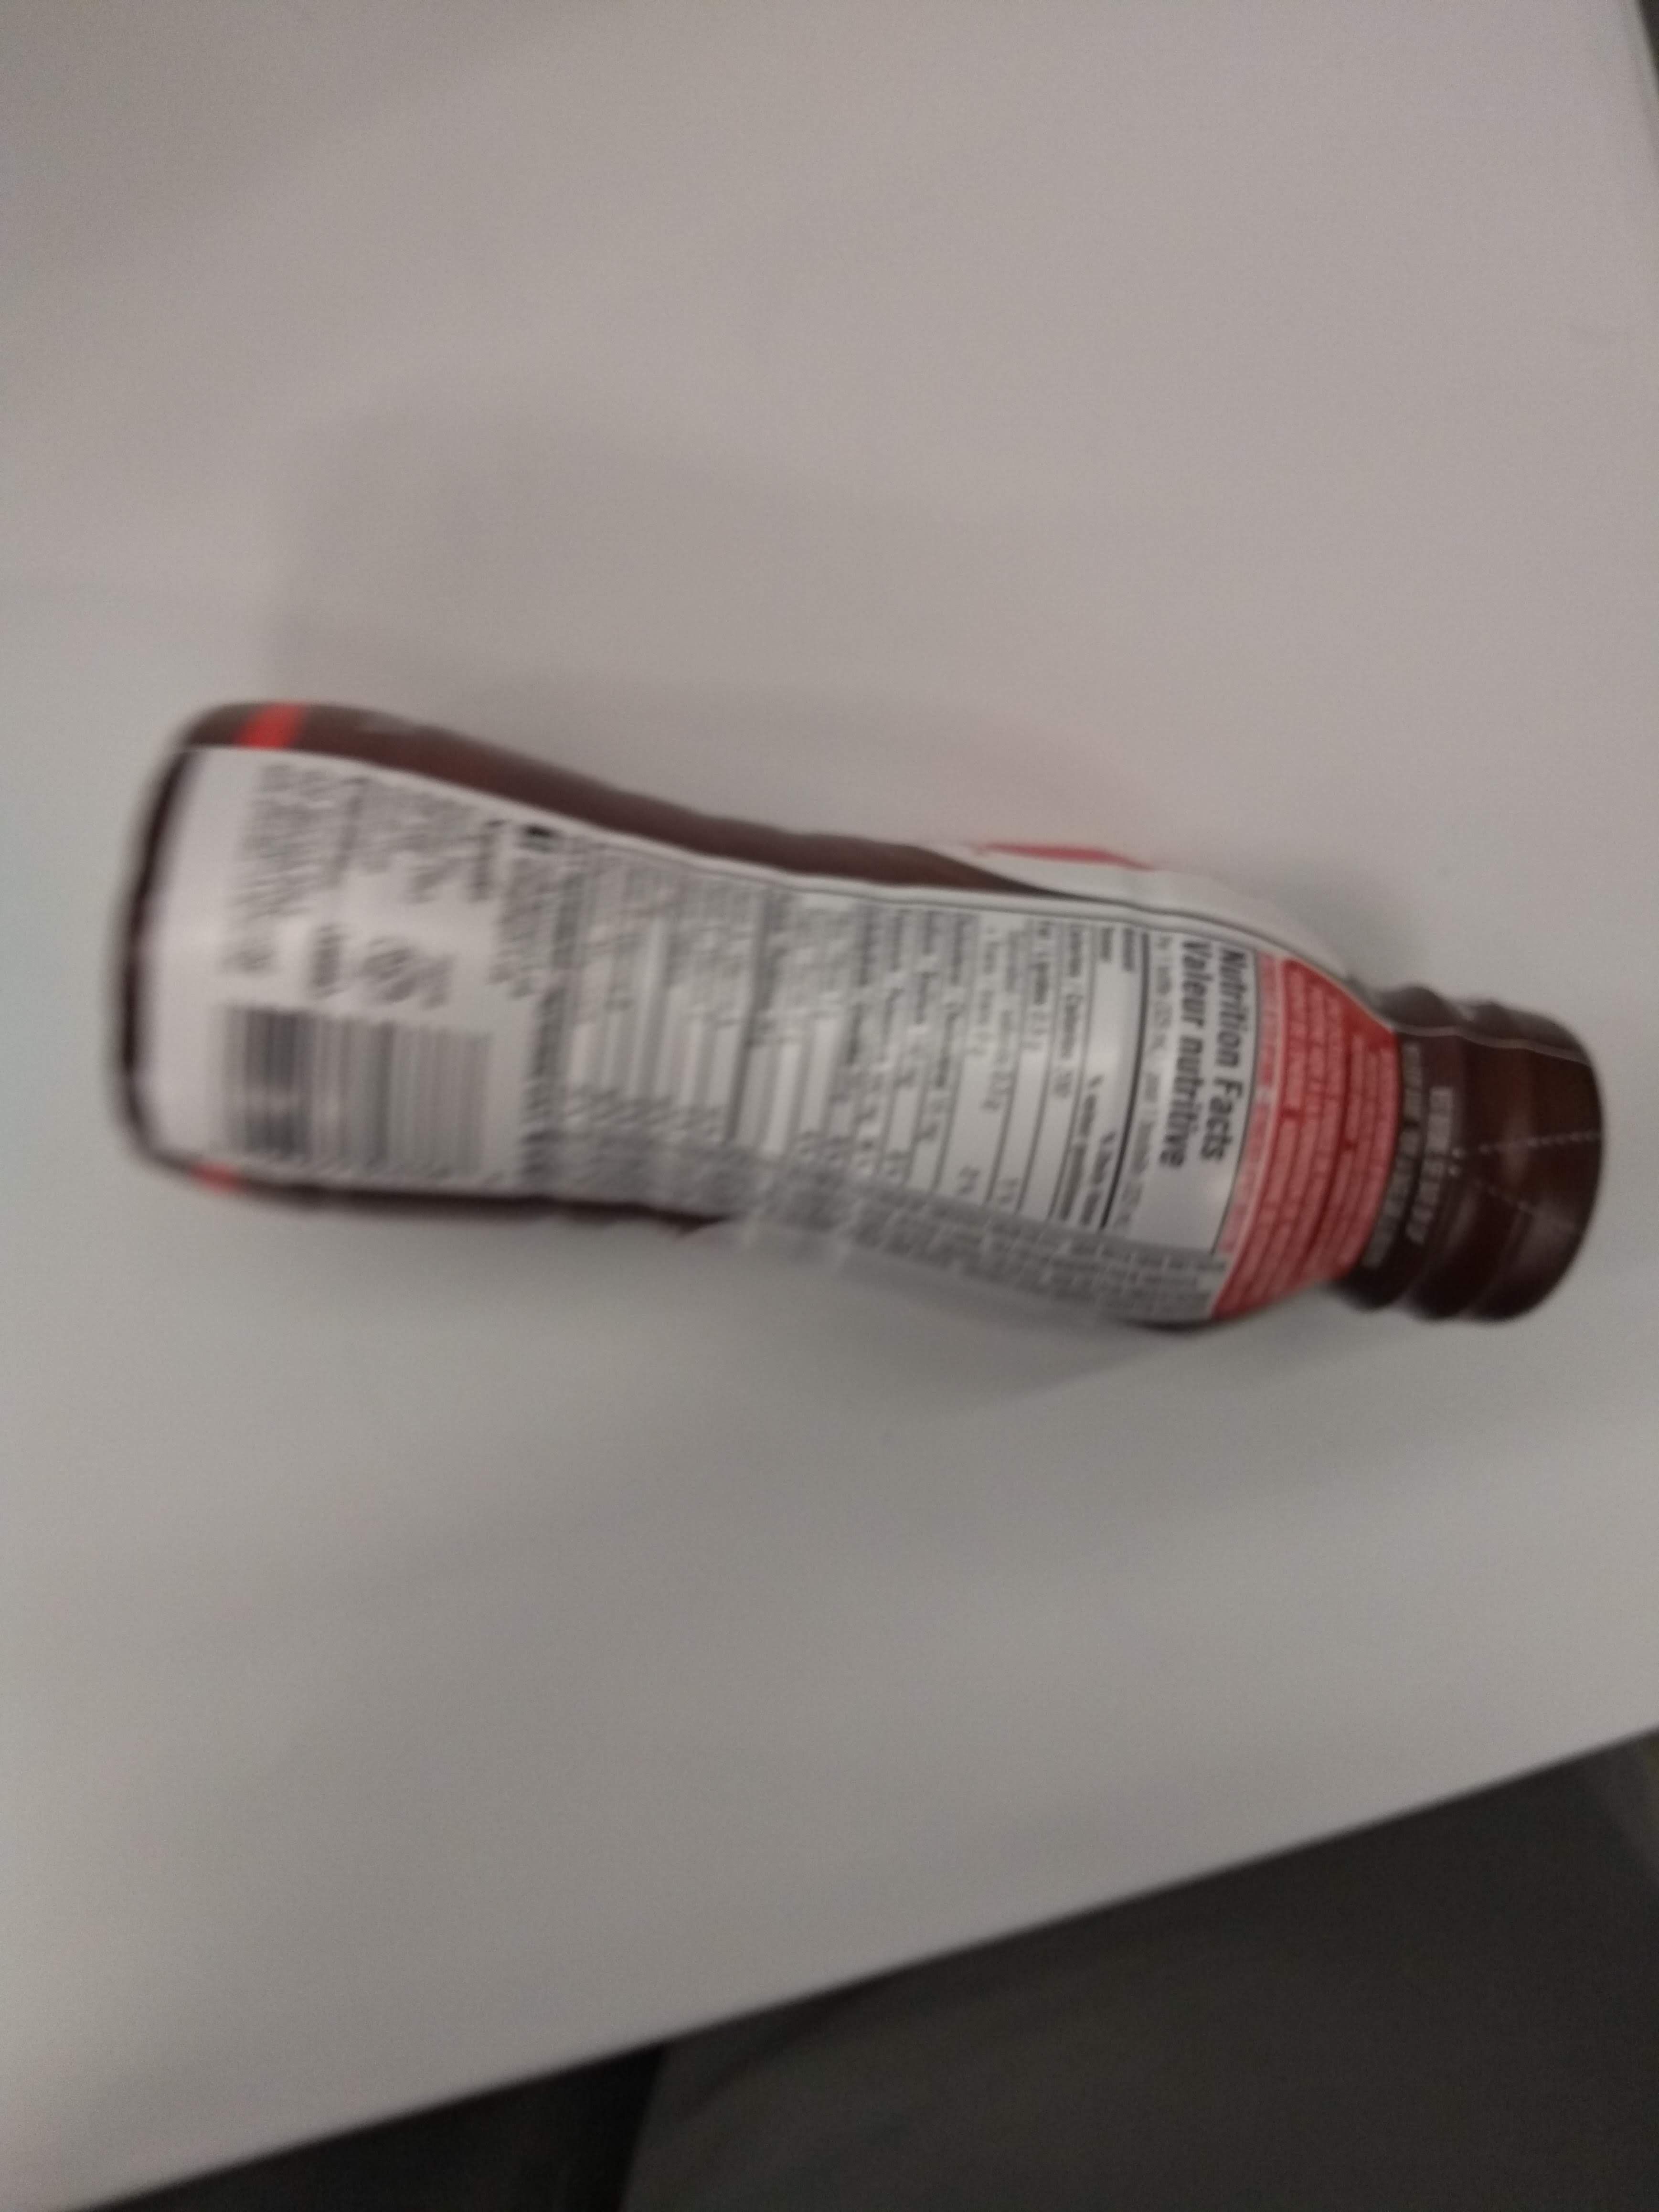chocolate_drink: (91, 681, 1615, 1367)
